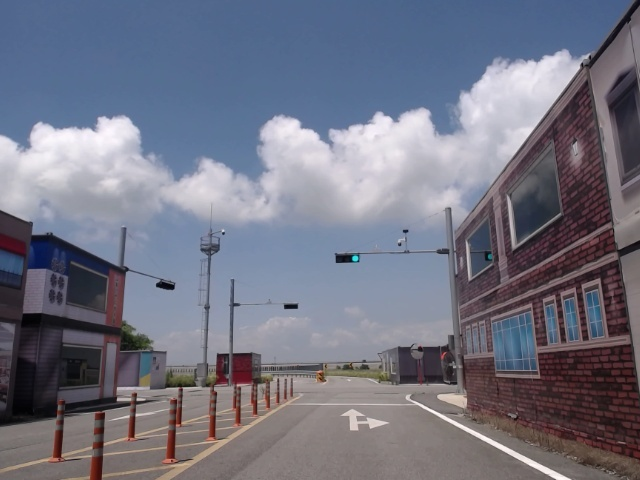green_3: (335, 254, 359, 264)
